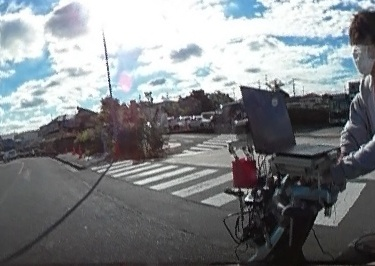person: (345, 6, 375, 252)
